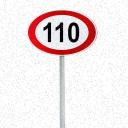speed_limit_110: (26, 9, 100, 61)
